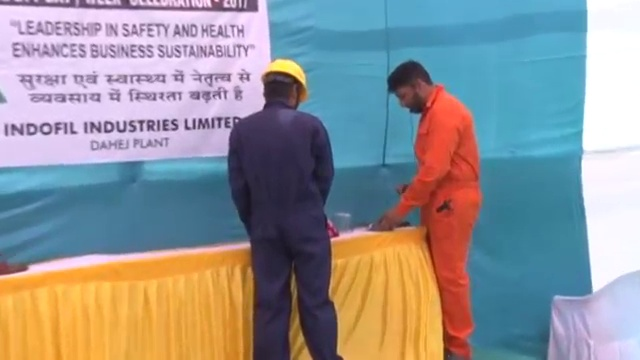helmet: (262, 57, 308, 102)
helmet_off: (387, 57, 436, 115)
helmet_on: (260, 56, 310, 114)
person: (225, 55, 345, 360), (373, 57, 486, 360)
